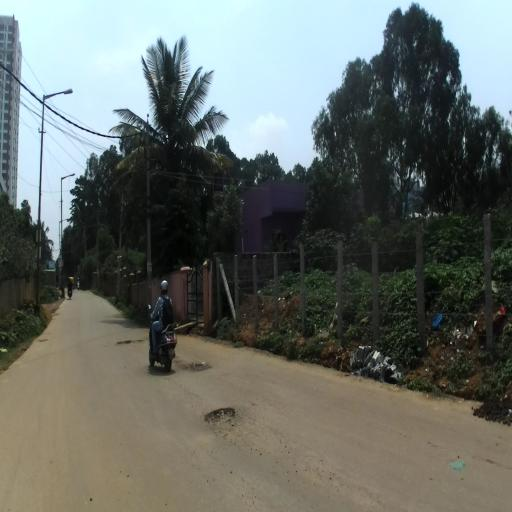street_light_0: (43, 88, 73, 100), (61, 173, 75, 181), (59, 219, 69, 224)
